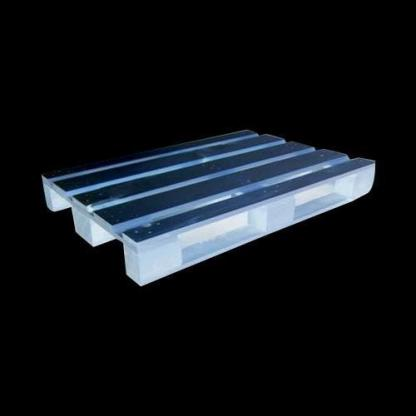BoxFace: (42, 126, 379, 288)
